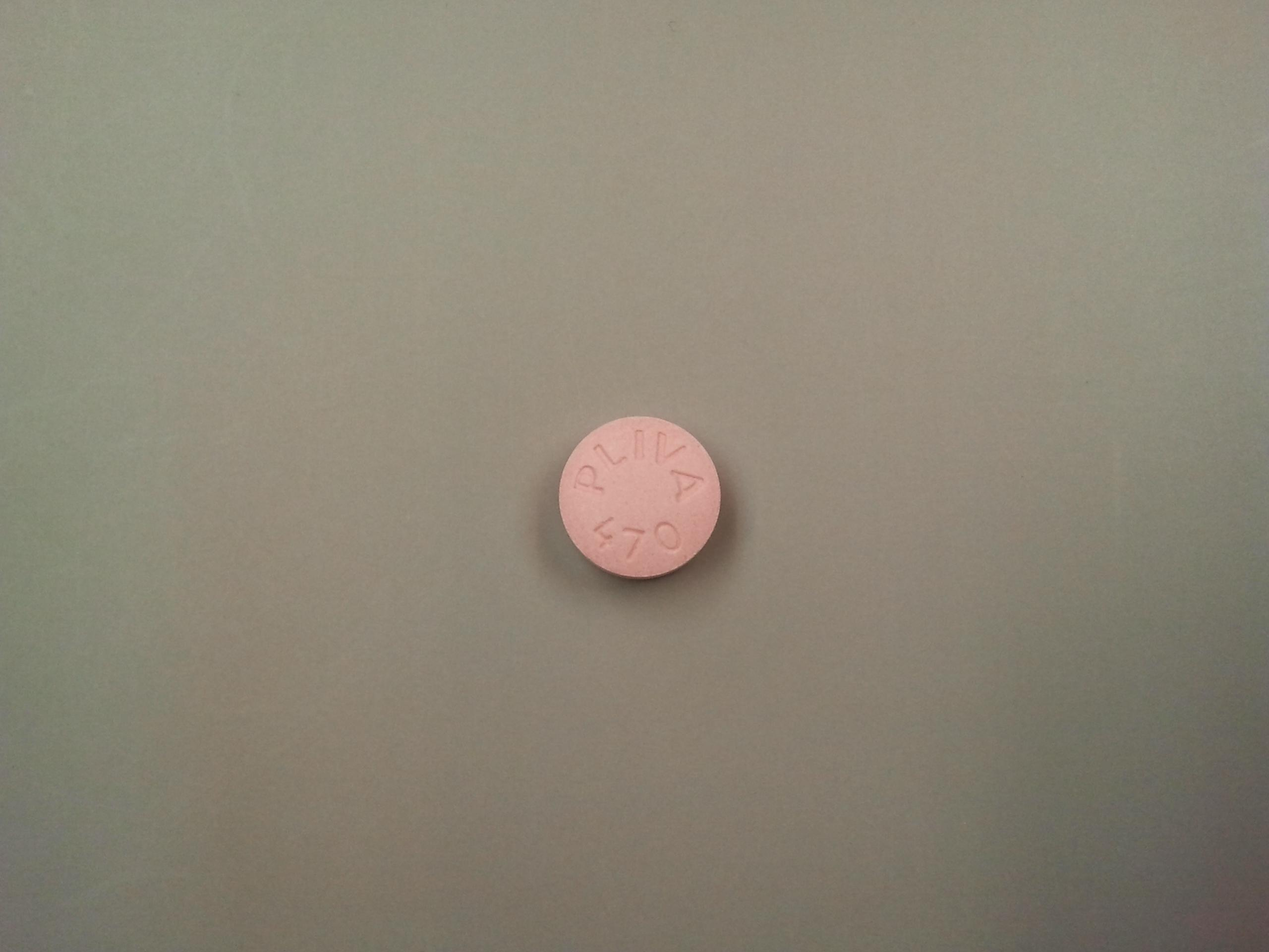Pill: (550, 407, 727, 585)
